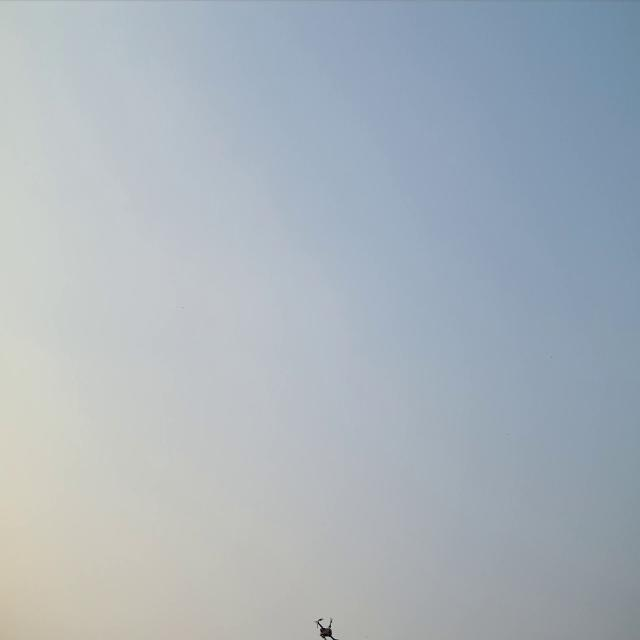UAV: (310, 607, 341, 640)
